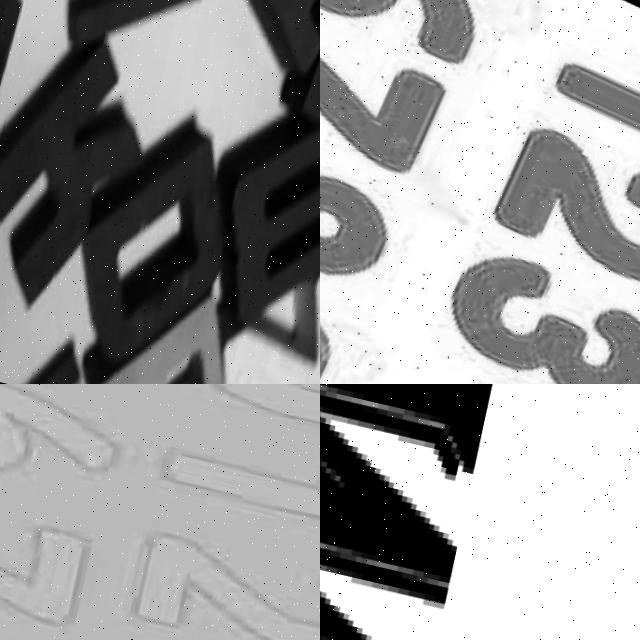0: (177, 384, 320, 446)
1: (157, 425, 320, 536), (539, 22, 640, 186)
2: (474, 109, 640, 317), (126, 526, 320, 640)
3: (421, 228, 640, 384)
6: (0, 384, 132, 502), (320, 0, 512, 78)
7: (320, 0, 468, 186), (0, 481, 94, 628)
8: (320, 105, 417, 303)
D: (48, 97, 257, 384)
E: (265, 0, 320, 183)
I: (197, 0, 320, 122)
K: (0, 0, 179, 325)
M: (22, 0, 246, 89)
W: (320, 384, 491, 603), (185, 63, 320, 340)
Z: (195, 240, 320, 384)
